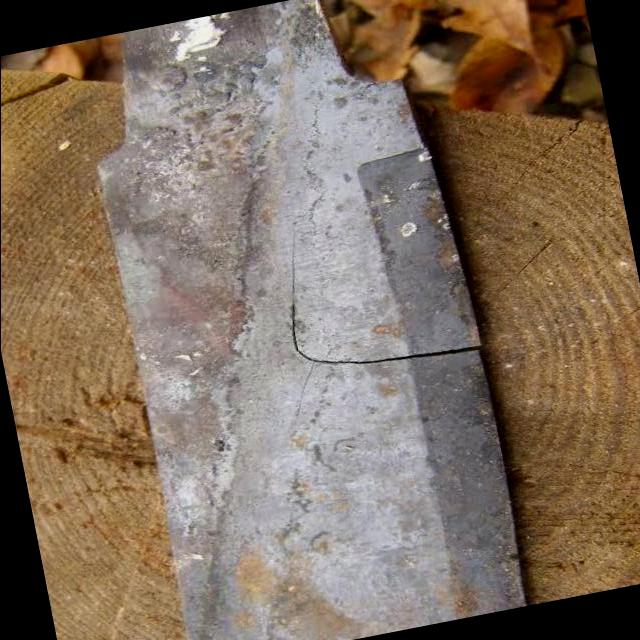defect: (285, 230, 479, 368)
